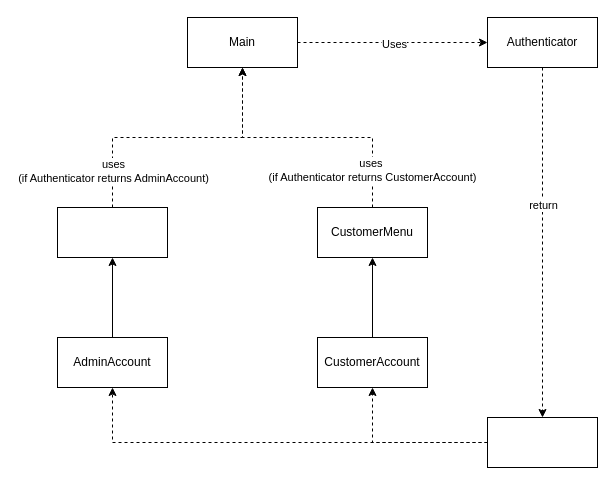
This 615x485 diagram has some shape labels left out. The shapes that lost their labels are listed below. From the top down, each one's centre as x and y in pixels, then its label:
the point at 112,232: AdminMenu
the point at 542,442: IAccount
